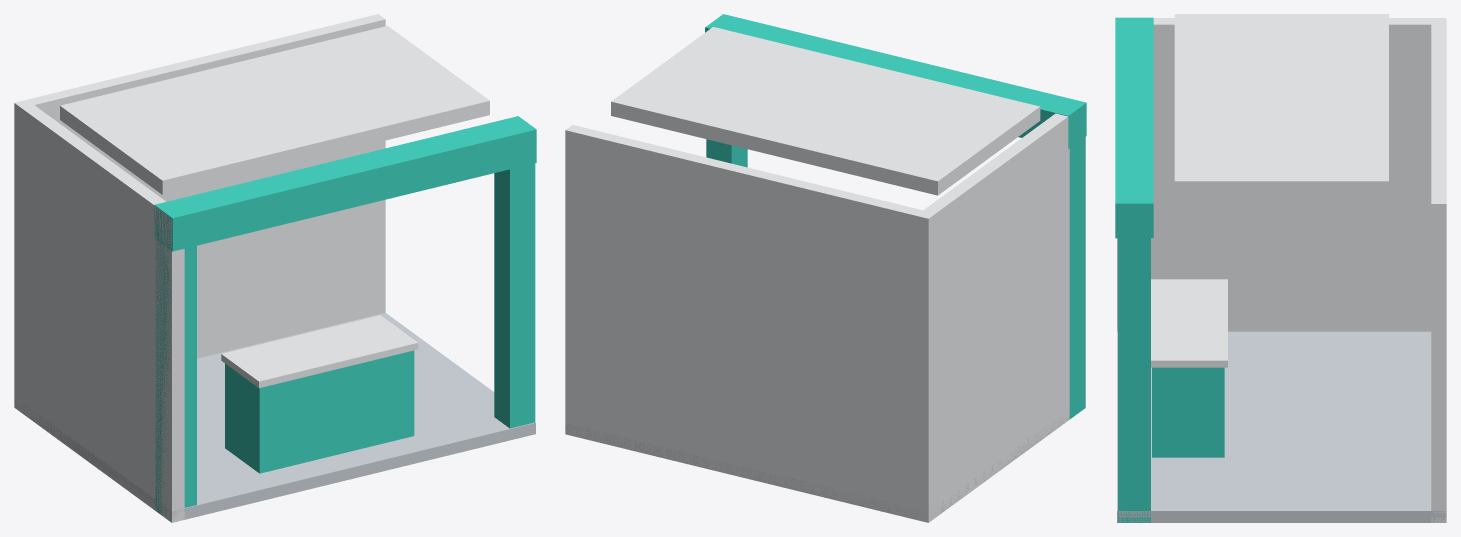
3 views of the same model, side by side, from view 1: azimuth 30°, elevation 25°; view 2: azimuth 150°, elevation 25°; view 3: azimuth 270°, elevation 25° (orthographic). The views are drawn at different scales.
Parts seen in each view (by area): view 1: Exhibition Booth Concept; view 2: Exhibition Booth Concept; view 3: Exhibition Booth Concept.
Part boxes in pixels (<box>): Exhibition Booth Concept: <box>14,14,536,522</box>; Exhibition Booth Concept: <box>565,14,1086,522</box>; Exhibition Booth Concept: <box>1115,14,1446,522</box>.
Size of the model in its own units: 4 by 3.34 by 3.01.
